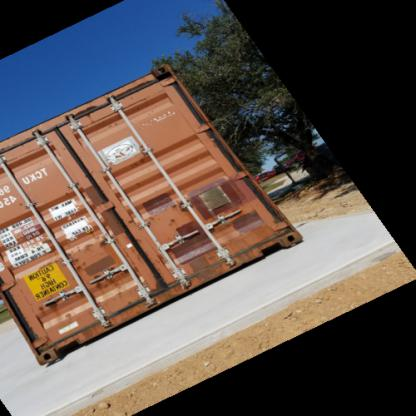Damage: (255, 215, 295, 245), (34, 292, 76, 320), (73, 260, 102, 288), (165, 199, 183, 231)
